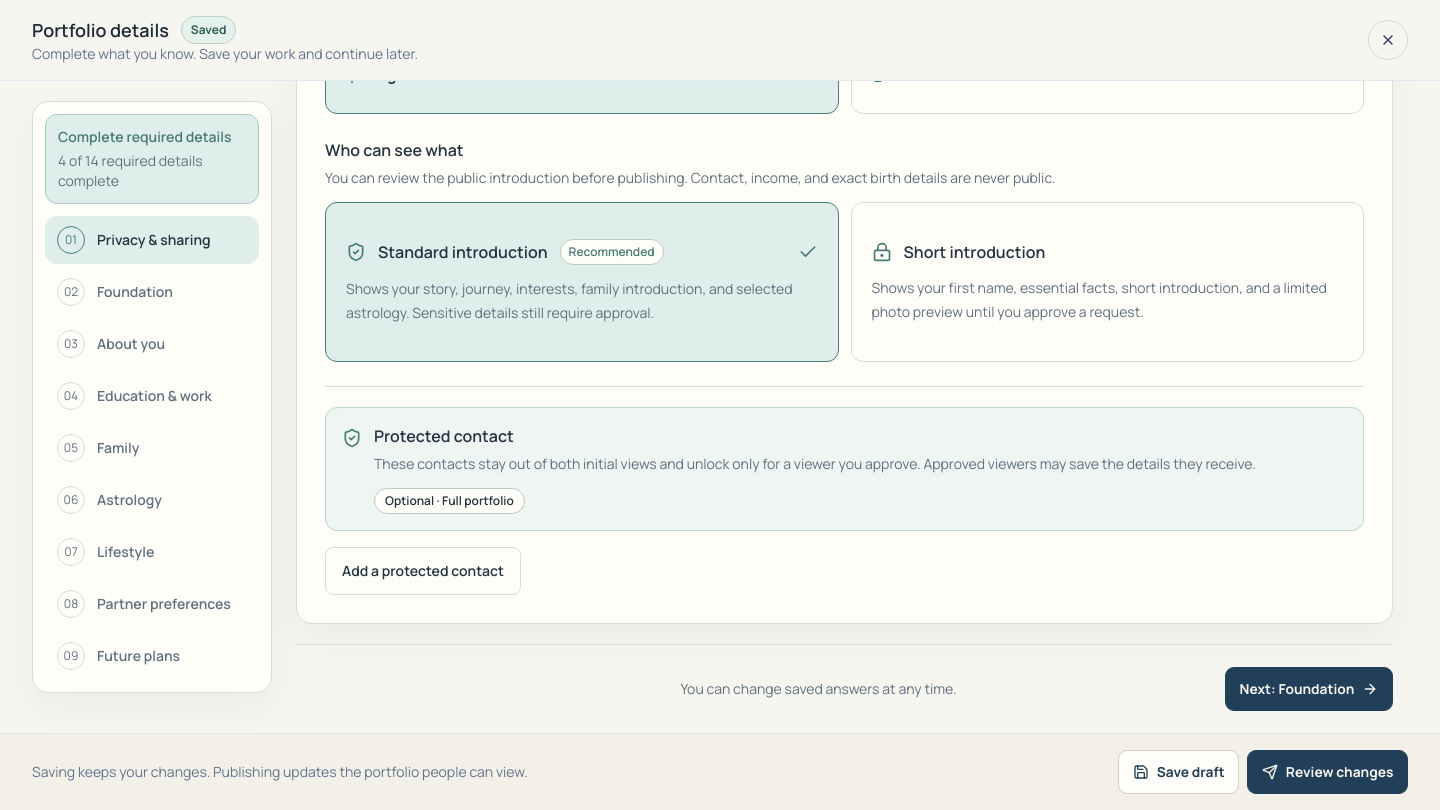
Scenario: dashboard client › opens the canonical editor when requested by an editing route
This screenshot has width=1440, height=810.
(page scrolled)
Expected: the heading "Portfolio details" is shown, [32,16,169,44]
Click the button "Next: Foundation" at coordinates (1309, 689), box [1225,667,1393,711]
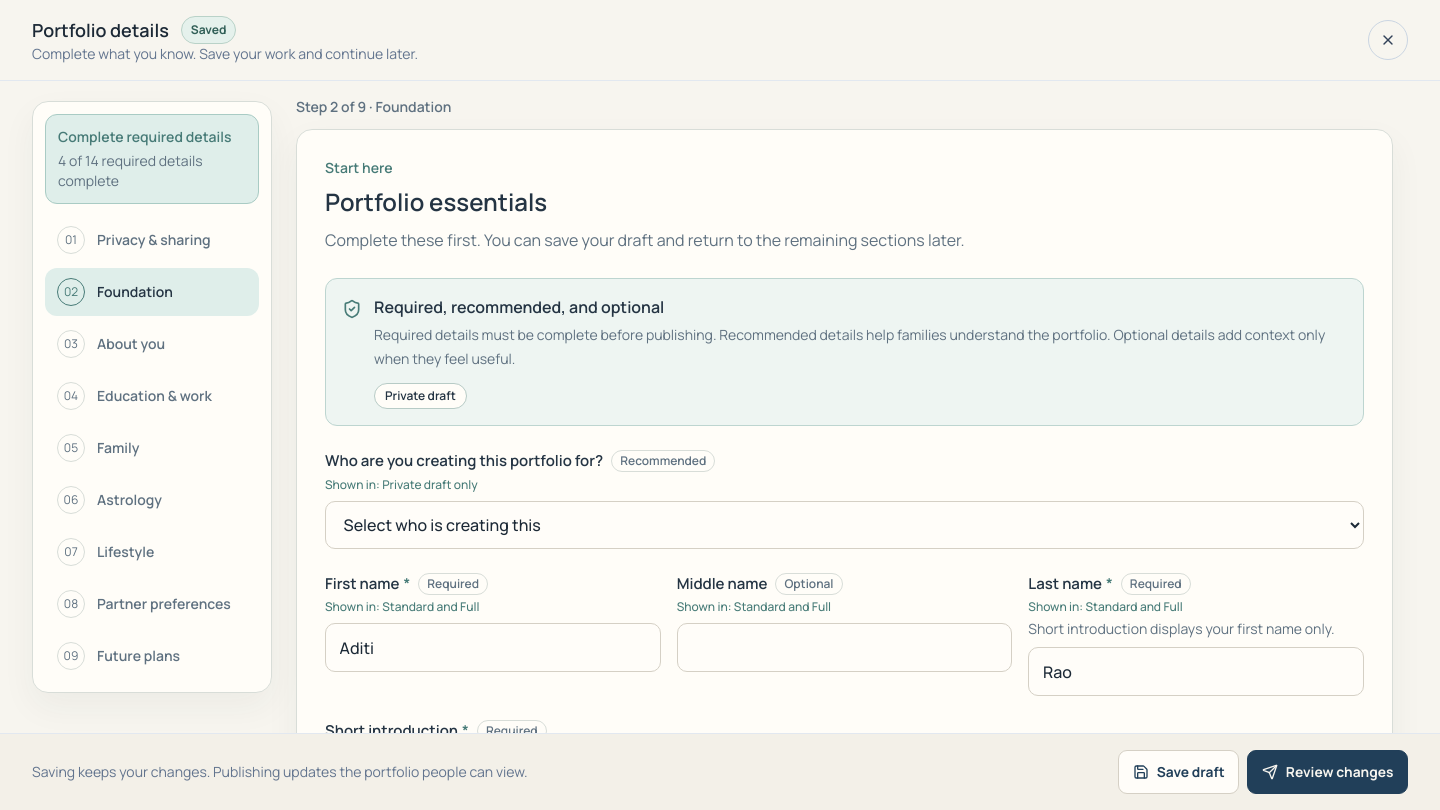
Now the heading "Portfolio essentials" is shown, box [325,185,547,218]
